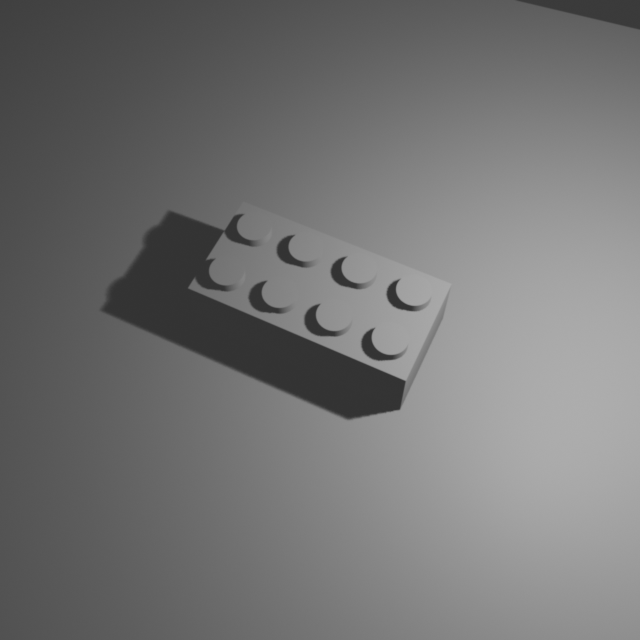lego_2x4: (186, 195, 453, 410)
